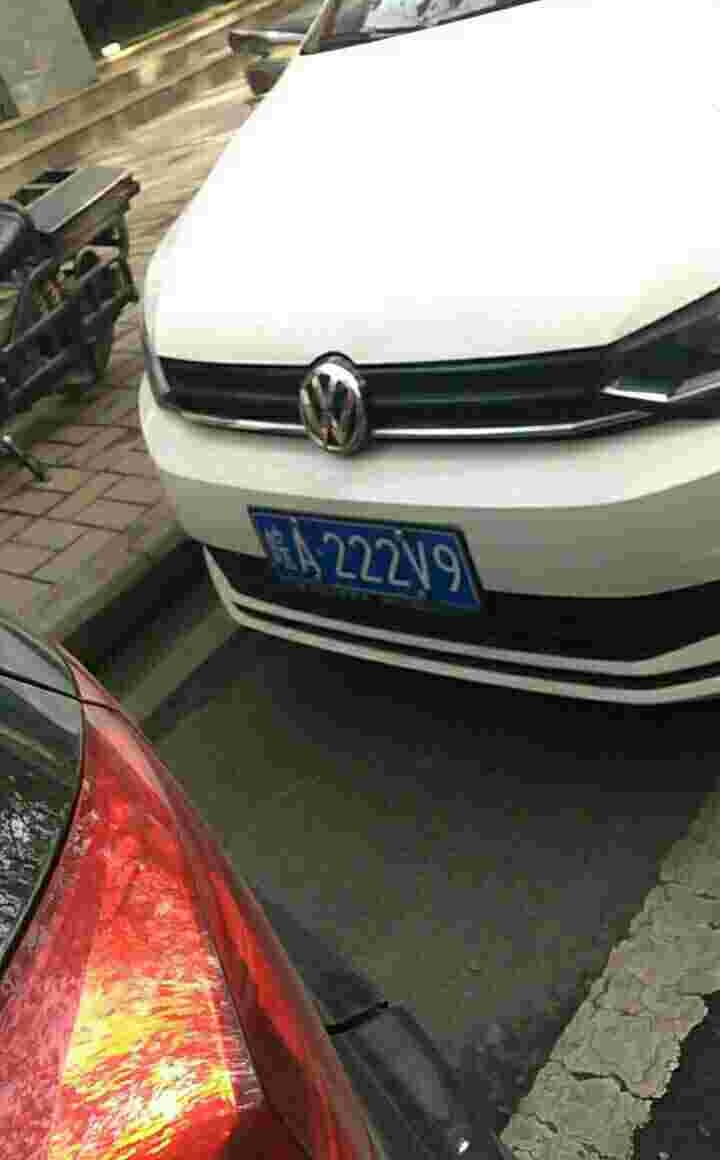plate: (246, 505, 484, 611)
